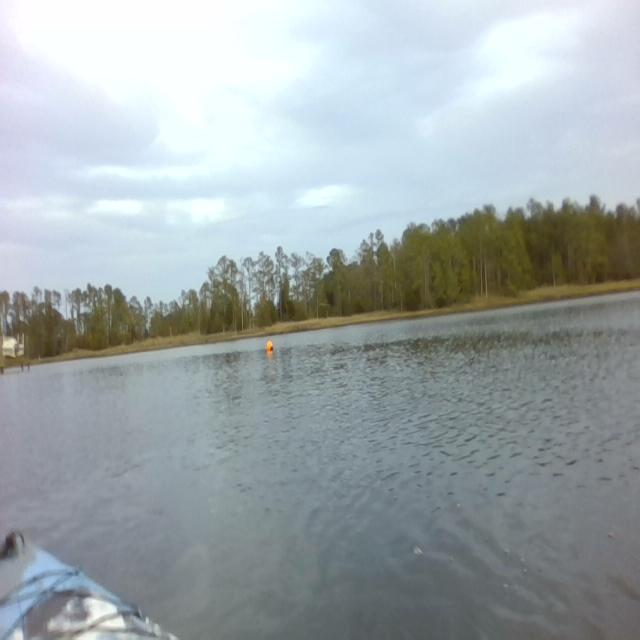Buoy: (264, 338, 276, 355)
